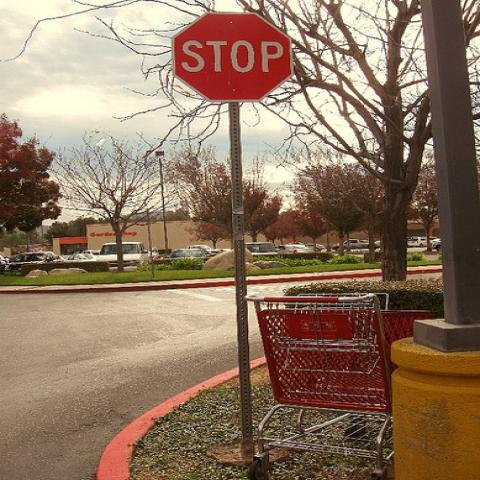car: (98, 242, 149, 272), (170, 248, 211, 258), (61, 253, 96, 263), (275, 244, 314, 252), (245, 242, 276, 251), (186, 245, 218, 253), (407, 236, 427, 248), (360, 238, 382, 248), (0, 255, 10, 274), (304, 244, 325, 251), (429, 239, 441, 251)
truck: (331, 238, 380, 251)
